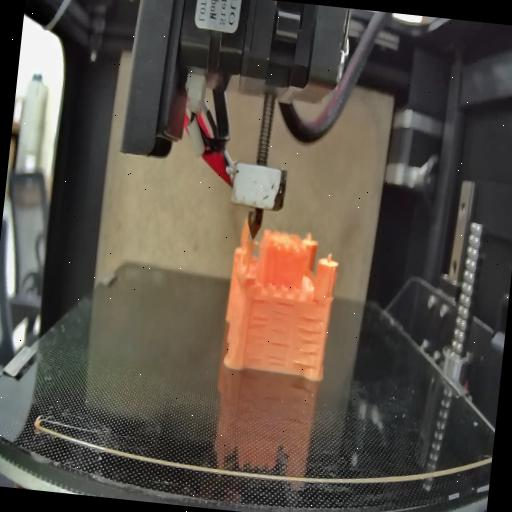cracks: (290, 313, 322, 370), (246, 312, 268, 364), (269, 303, 292, 334), (266, 339, 288, 370), (252, 295, 270, 307), (308, 296, 324, 306)
